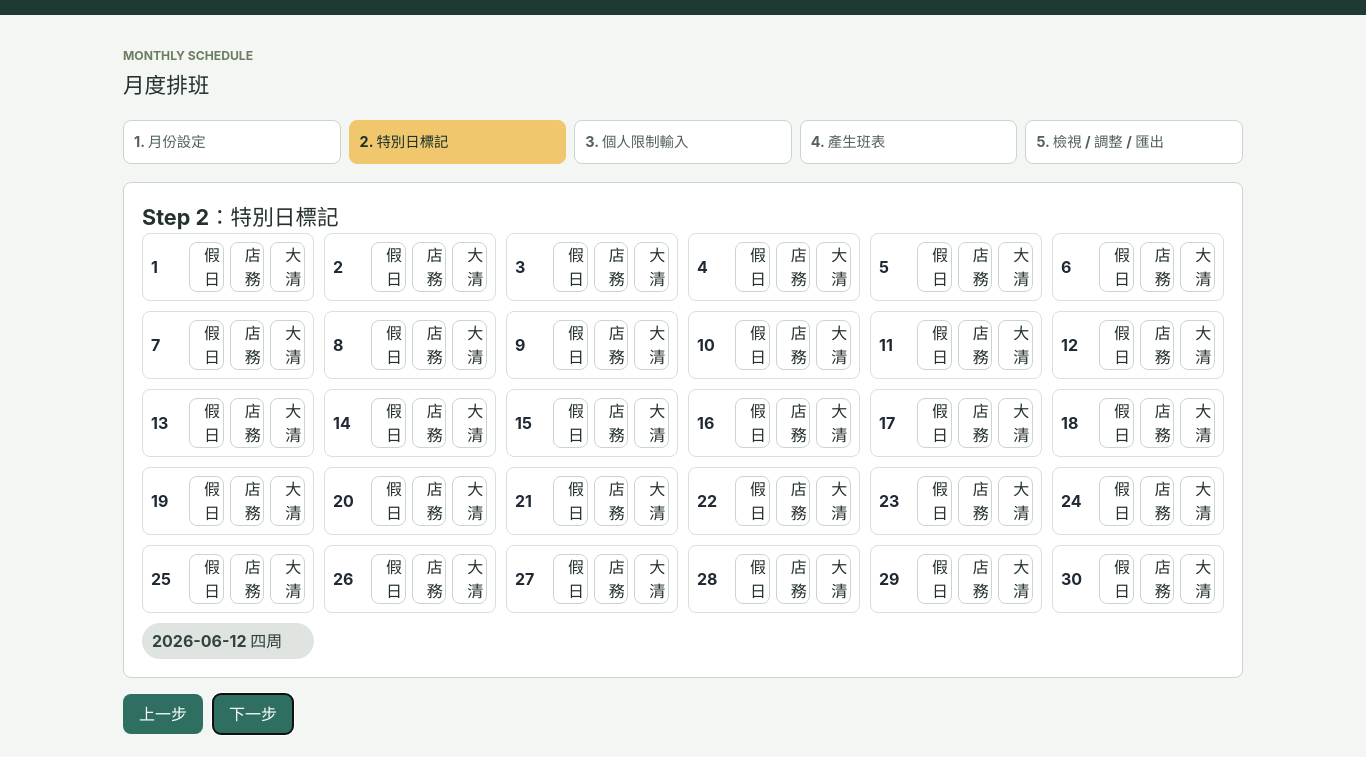
it: App › walks through the monthly workflow and generates a review table
The image size is (1366, 757).
Earlier steps of the test are not shown.
(page scrolled)
Expected: the heading "Step 2：特別日標記" is shown, [142,204,339,230]
Click the button with aria-label "2026-06-02 假日". click: coordinates (388, 267)
box: [371,242,406,292]
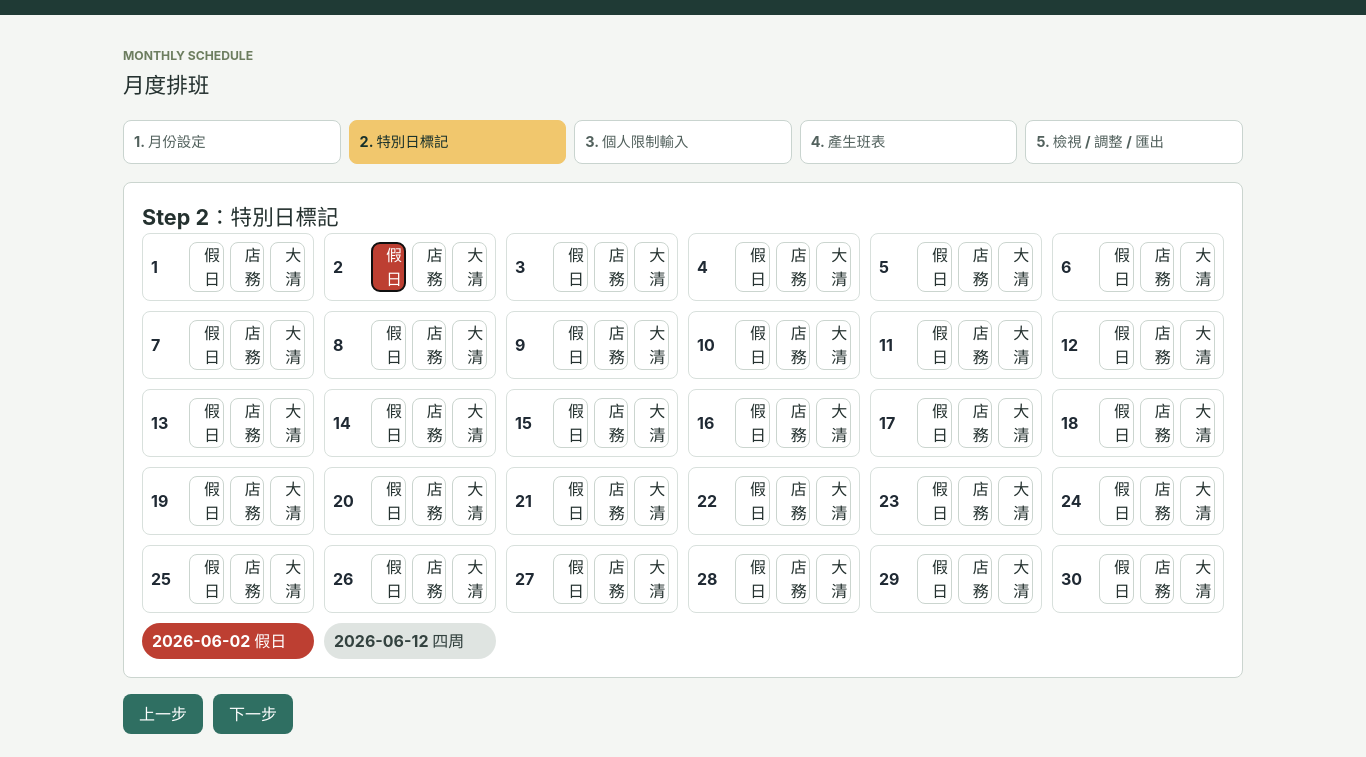
Click the button "下一步". click: coordinates (253, 714)
box: [213,694,293,734]
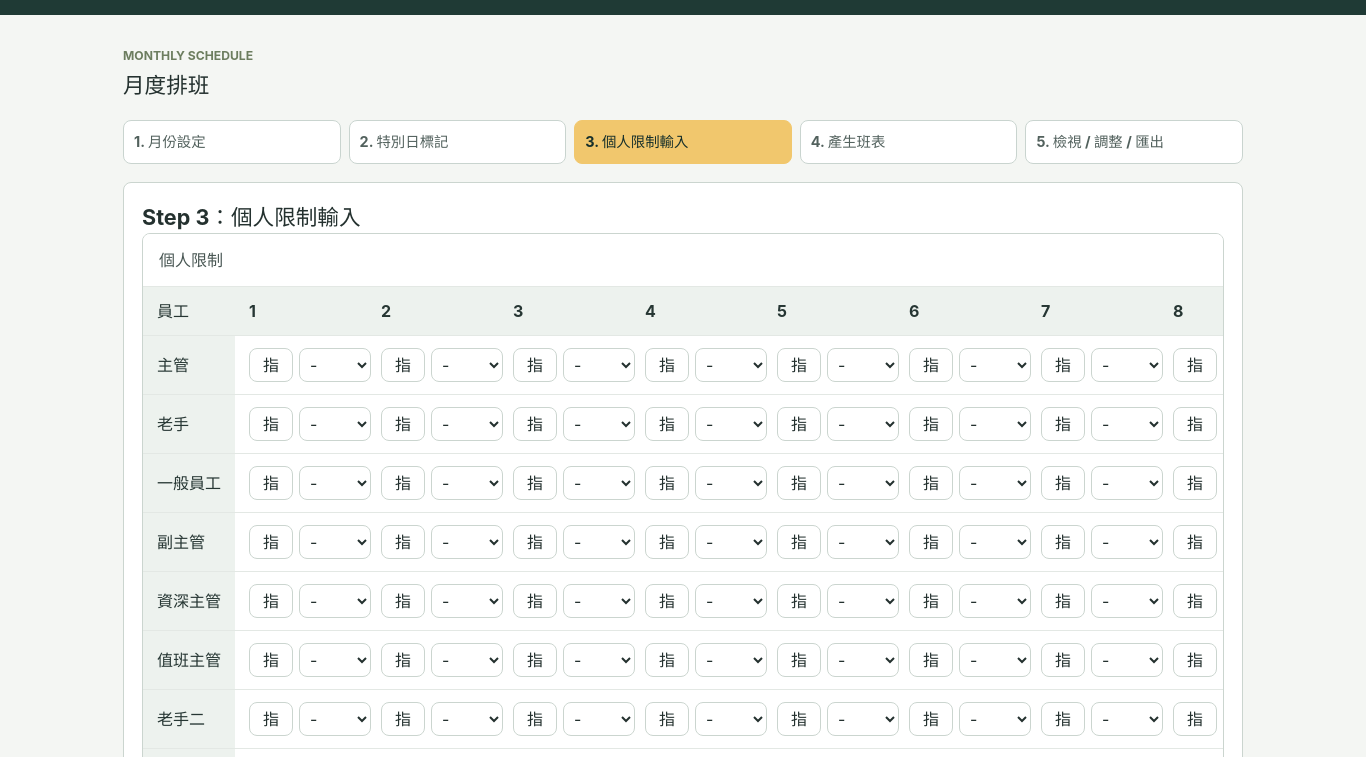
Now the heading "Step 3：個人限制輸入" is shown, box [142,204,360,230]
Click the button named "主管 2026-06-03 指休". click: coordinates (535, 365)
box: [513,348,557,382]
(page scrolled)
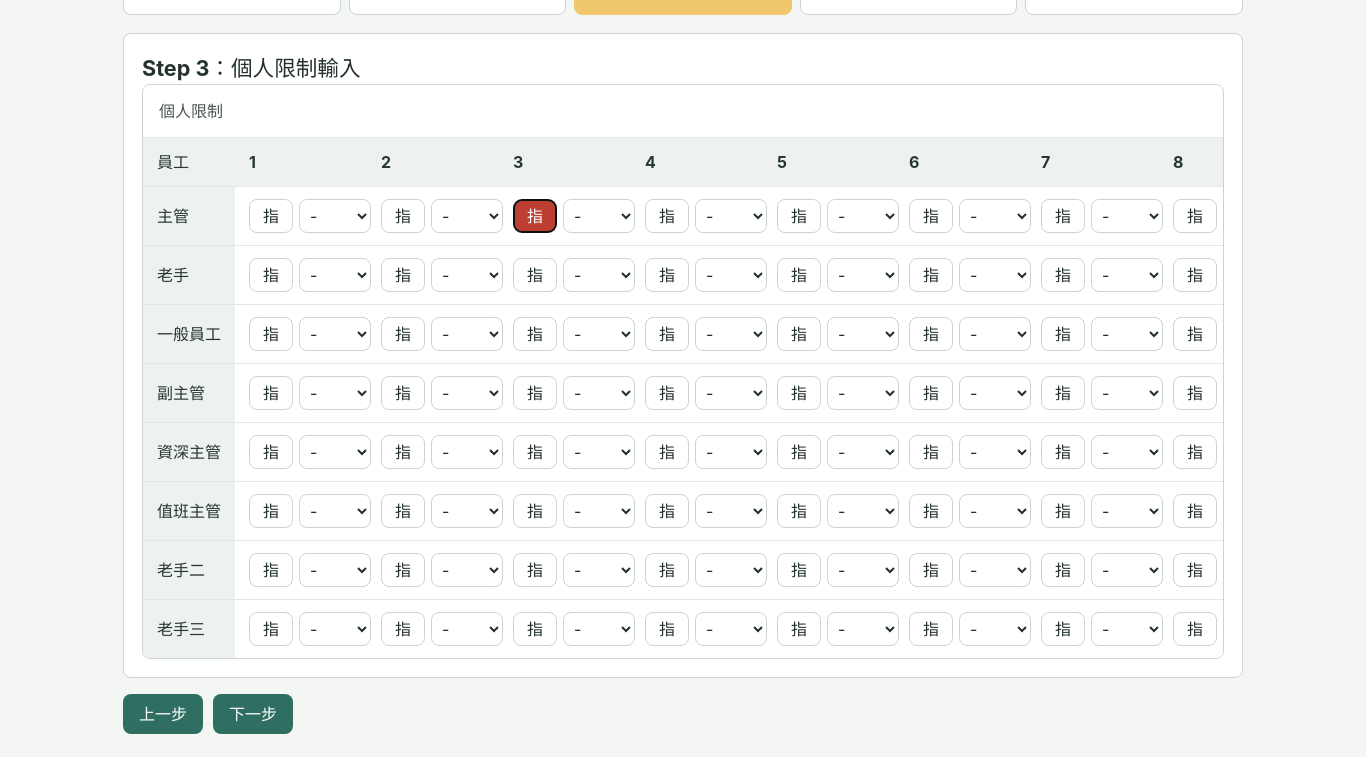
Click the button "下一步". click: coordinates (253, 714)
box: [213,694,293,734]
(page scrolled)
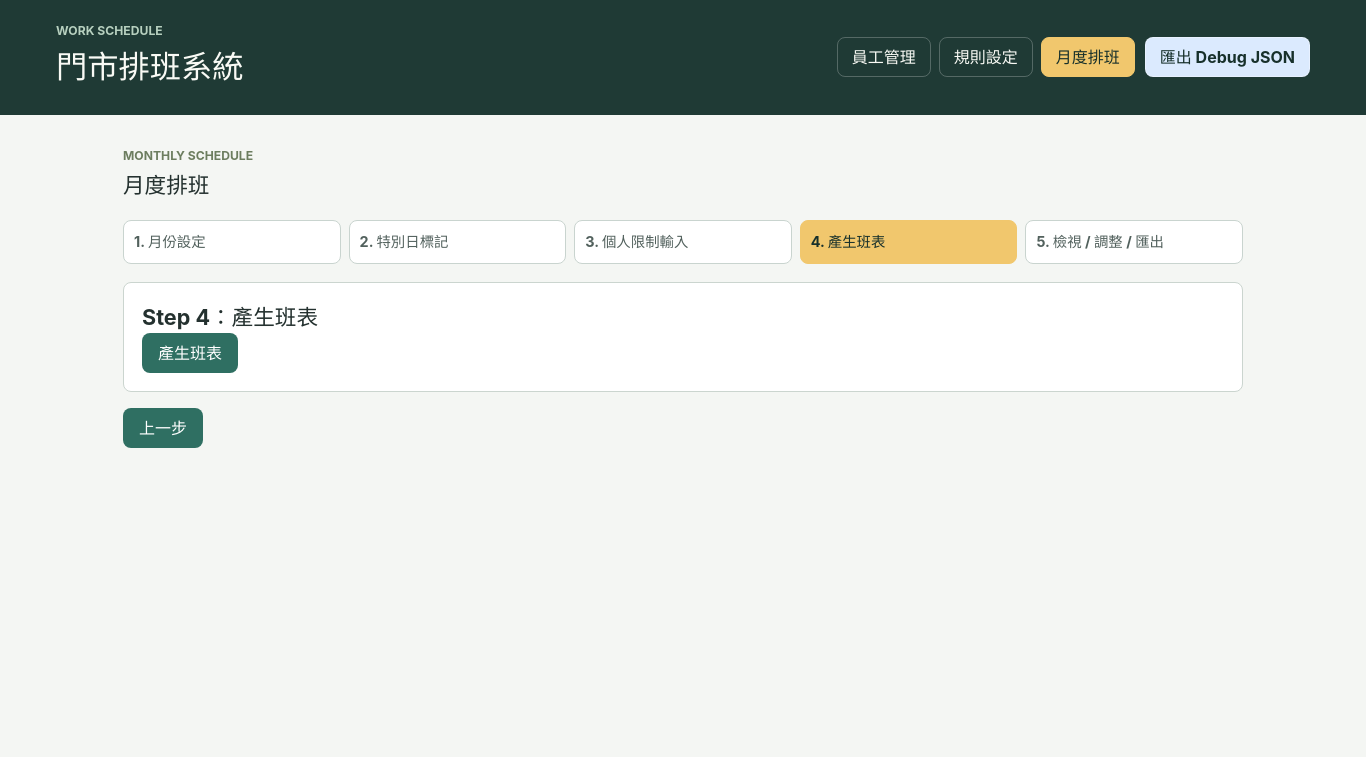
Now the heading "Step 4：產生班表" is shown, box [142,304,318,330]
Click the button "產生班表". click: coordinates (190, 353)
box: [142,333,238,373]
(page scrolled)
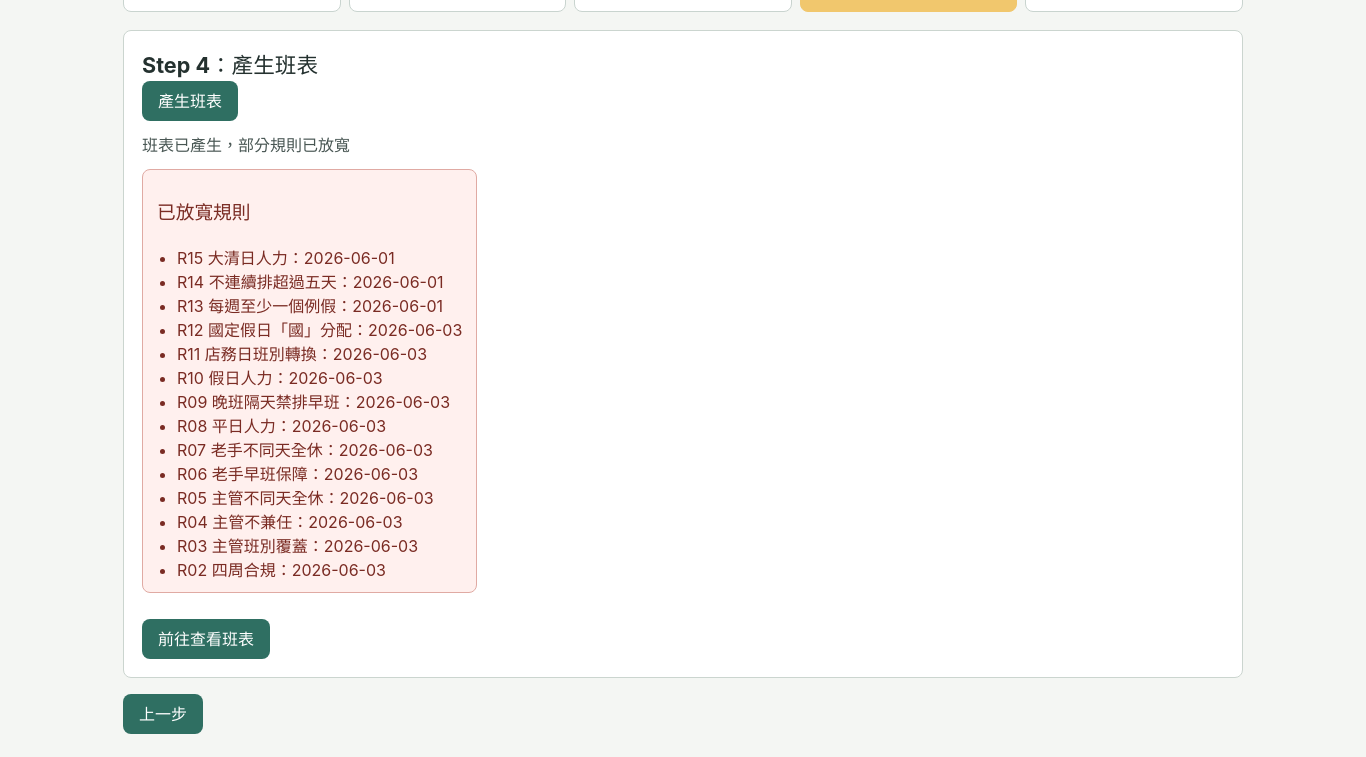
Now the text "班表已產生，部分規則已放寬" is shown, box [142,133,350,157]
Now the heading "已放寬規則" is shown, box [157,201,250,224]
Now the list item "R15 大清日人力：2026-06-01" is shown, box [177,248,395,268]
Click the button "前往查看班表". click: coordinates (206, 639)
box: [142,619,270,659]
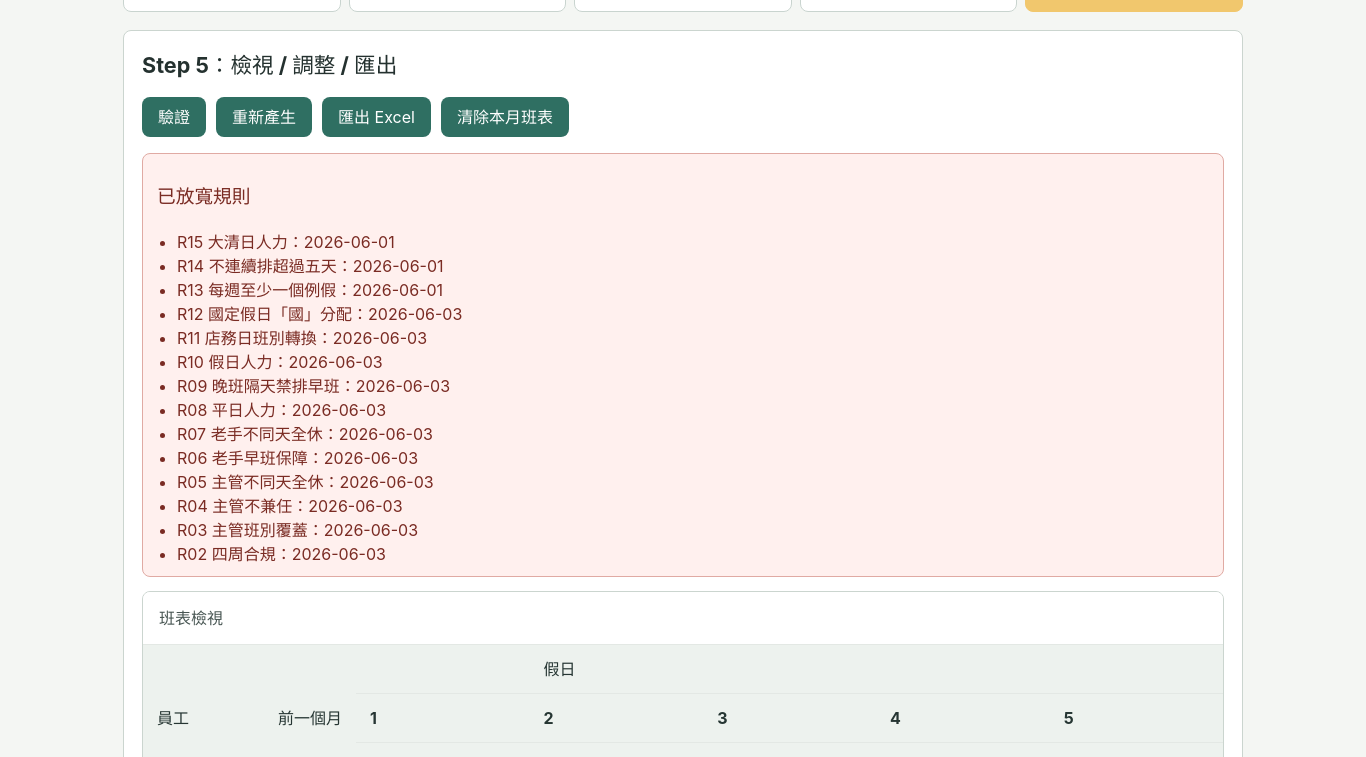
Now the heading "Step 5：檢視 / 調整 / 匯出" is shown, box [142,52,397,78]
Now the column heading "假日" is shown, box [530,644,703,693]
Now the button "匯出 Excel" is enabled, box [322,97,431,137]
